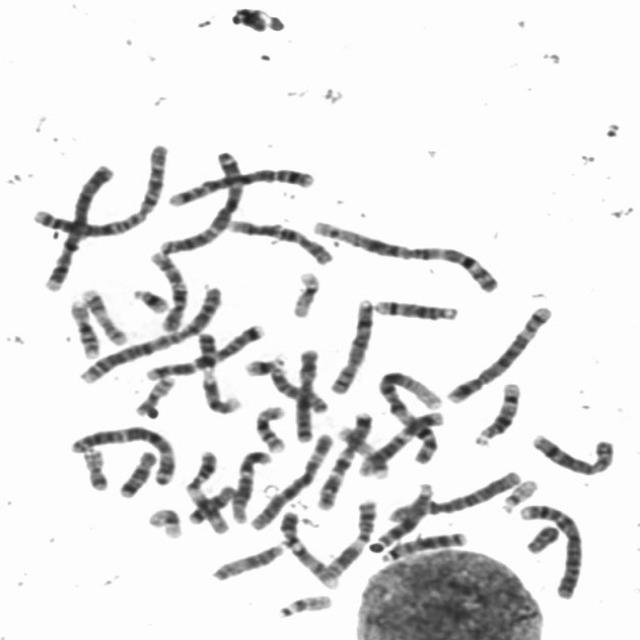A1: (305, 213, 504, 294), (370, 364, 446, 466)
A2: (74, 281, 227, 384), (26, 137, 170, 240)
A3: (155, 145, 249, 256), (64, 418, 180, 488)
B4: (36, 156, 118, 294), (513, 496, 588, 601)
B5: (440, 298, 557, 406), (162, 160, 320, 208)
C10: (223, 212, 338, 266), (143, 244, 193, 334)
C11: (320, 493, 380, 580), (179, 444, 231, 534)
C12: (352, 405, 446, 479), (226, 444, 276, 525)
C6: (244, 426, 337, 531), (384, 464, 524, 522)
C7: (139, 316, 268, 380), (312, 404, 378, 512)
C8: (324, 291, 378, 396), (525, 426, 619, 476)
C9: (273, 505, 343, 590), (188, 326, 246, 416)
D13: (367, 476, 438, 554), (377, 525, 471, 563)
D14: (468, 376, 524, 448), (367, 292, 463, 322)
D15: (206, 537, 289, 583), (264, 360, 332, 414)
E16: (62, 294, 103, 359), (249, 399, 291, 454)
E17: (330, 419, 392, 480), (75, 281, 131, 347)
E18: (182, 479, 240, 526), (113, 444, 159, 498)
F19: (284, 264, 325, 319), (142, 502, 186, 540)
F20: (129, 370, 179, 418), (77, 441, 113, 492)
G21: (127, 281, 172, 315), (237, 348, 288, 377)
G22: (272, 588, 336, 620), (496, 472, 542, 514)
X: (288, 342, 324, 444)
Y: (520, 520, 563, 555)
